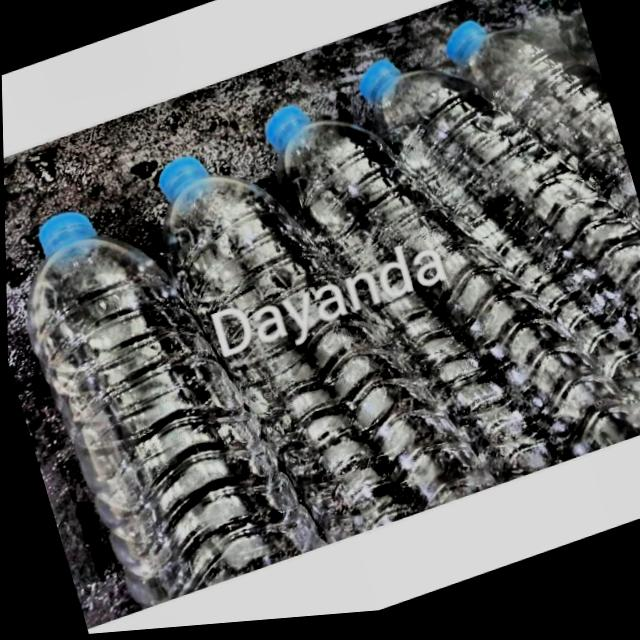Bottles: (250, 17, 640, 540), (134, 85, 503, 589), (3, 153, 329, 632), (337, 0, 640, 455)
